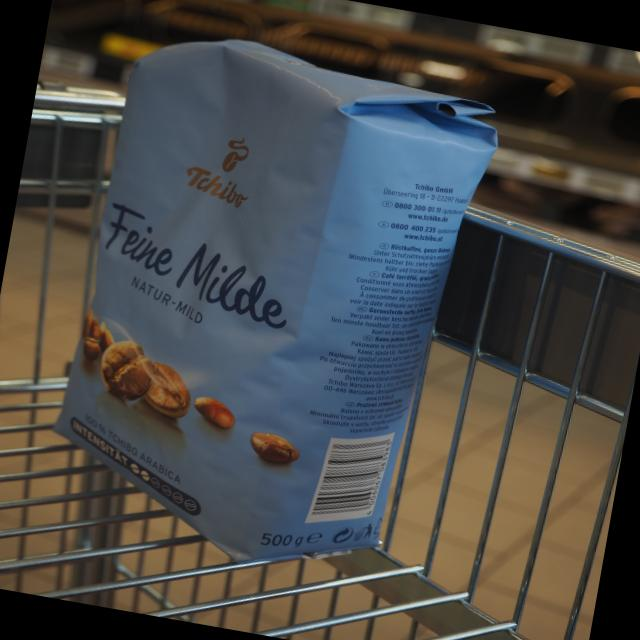FM Bohne: (27, 9, 521, 604)
